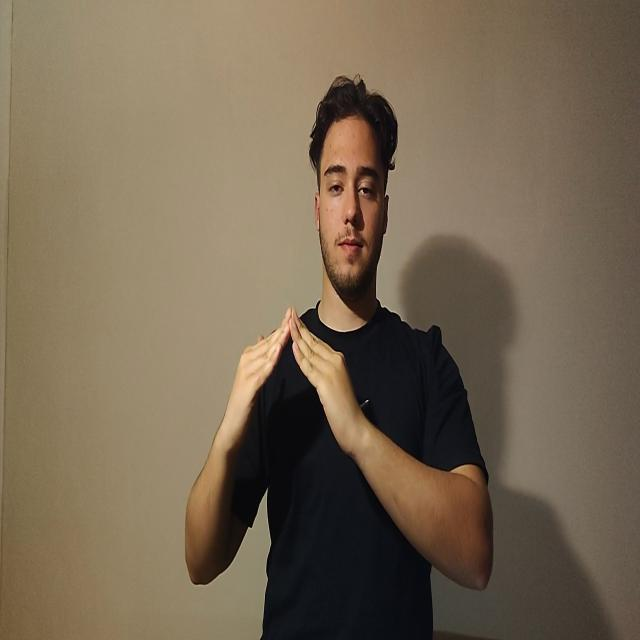house: (228, 301, 362, 460)
